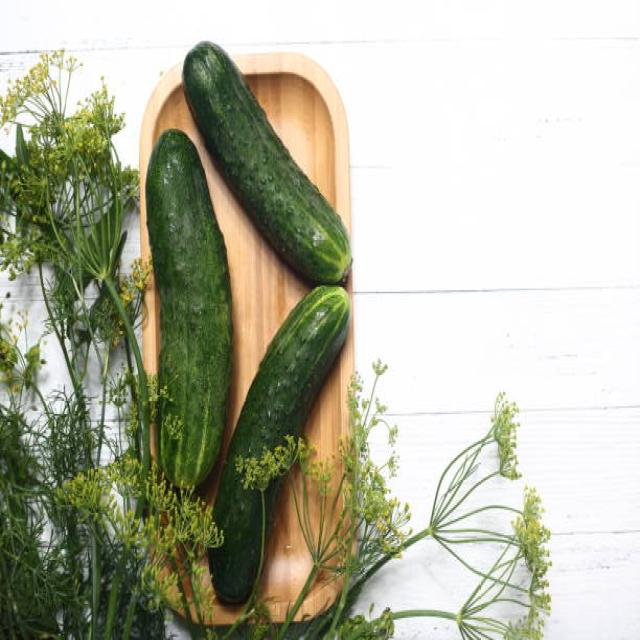cucumber: (207, 281, 351, 606), (180, 37, 352, 287), (145, 128, 235, 495)
